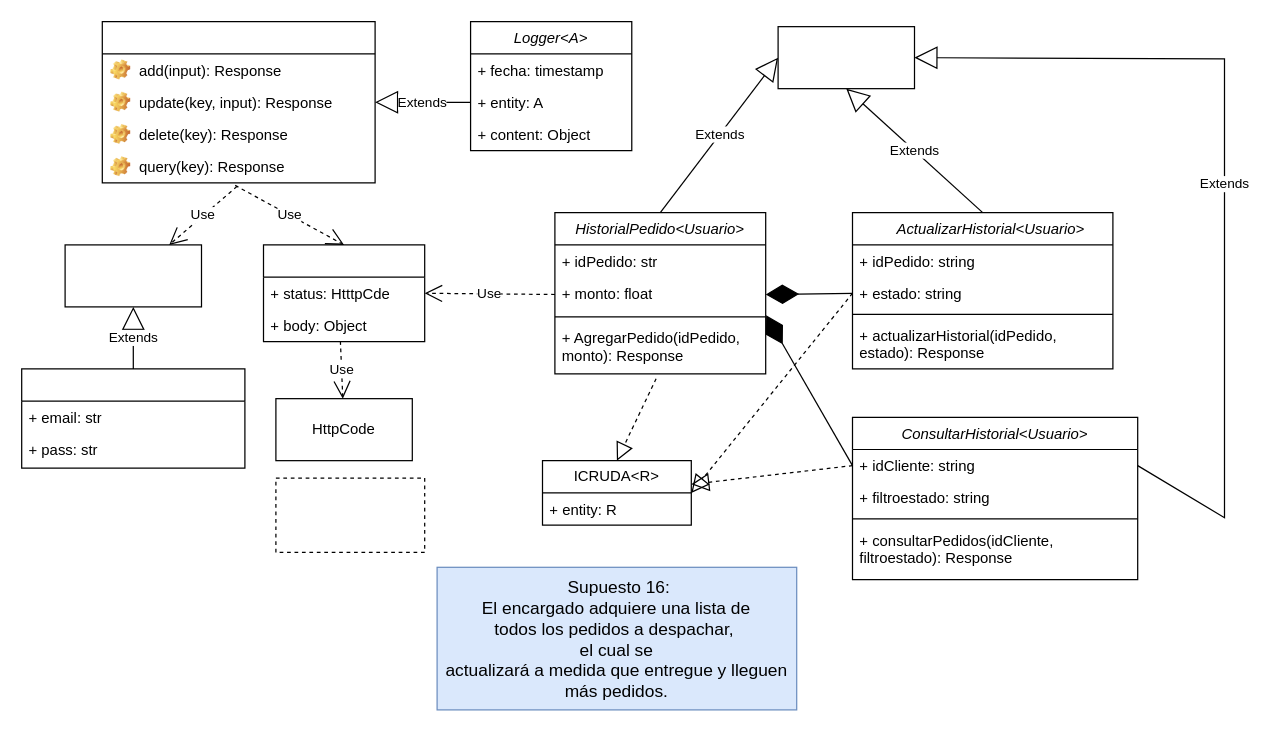
Image size: 1271x732. Some labels were removed from this diagram. The shapes that lost their labels are listed below. From the top down, each one's box as (x1, y1, x2, y2) in pixels, then its label:
(777, 25, 914, 89): «interface» ICRUD
(101, 20, 375, 183): ICRUD<E>
(64, 244, 202, 307): «interface» input
(262, 244, 425, 342): Response
(20, 368, 245, 468): Usuarioinput
(275, 477, 425, 552): 200: OK 400: Not Allowed 404: Not Found
